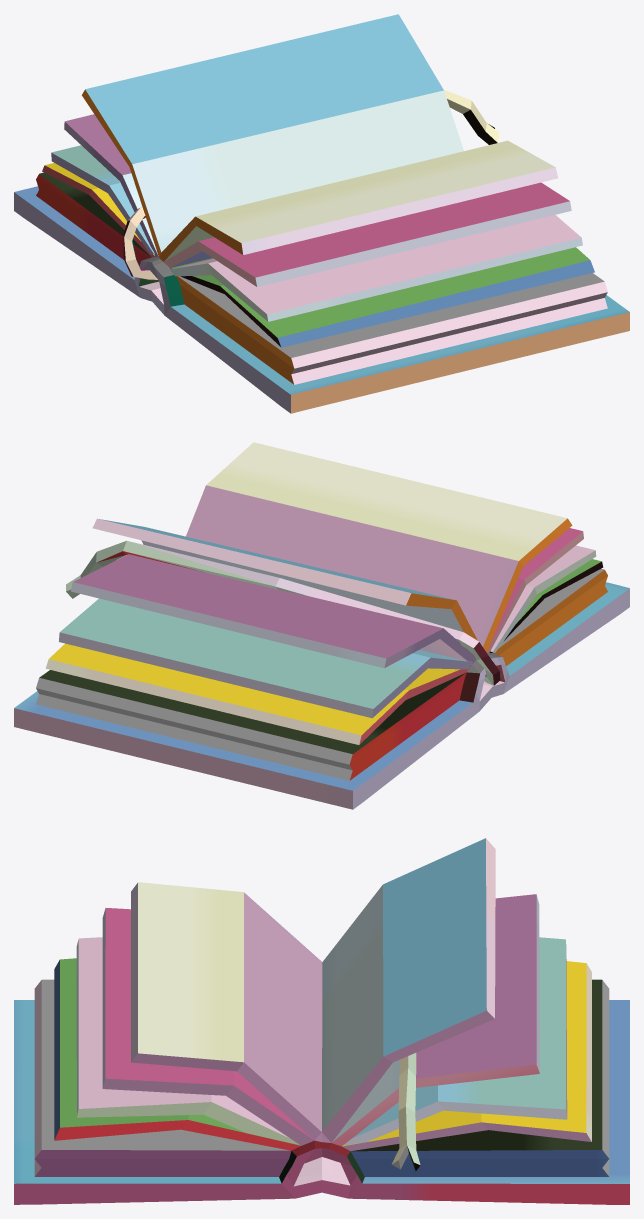
Rendered from book02.fbx.
3 renders of one model, top to bottom at view 1: azimuth 30°, elevation 25°; view 2: azimuth 150°, elevation 25°; view 3: azimuth 270°, elevation 25°, orthographic. The views are drawn at different scales.
Visible parts, largest first — view 1: book02; view 2: book02; view 3: book02.
Part boxes in pixels (x1,y1,x2,y2): book02: (14, 14, 629, 413); book02: (14, 442, 629, 809); book02: (14, 838, 629, 1204).
Size of the model in its own units: 0.3593 by 0.1434 by 0.4292.
